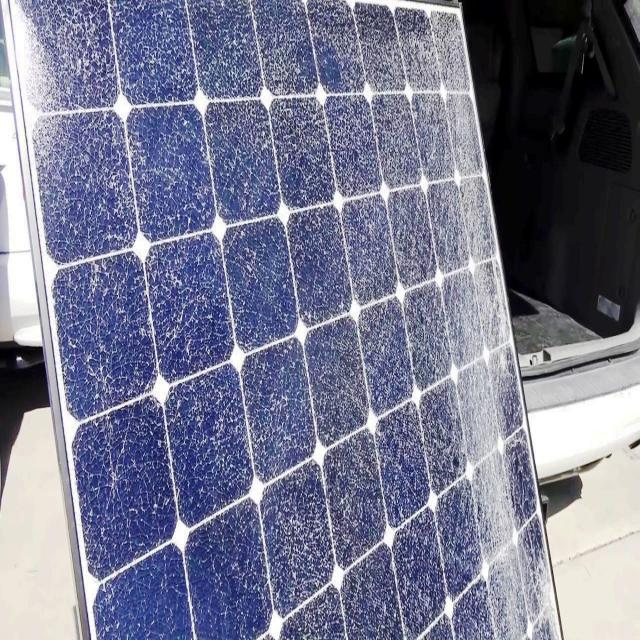faulty: (7, 2, 567, 635)
